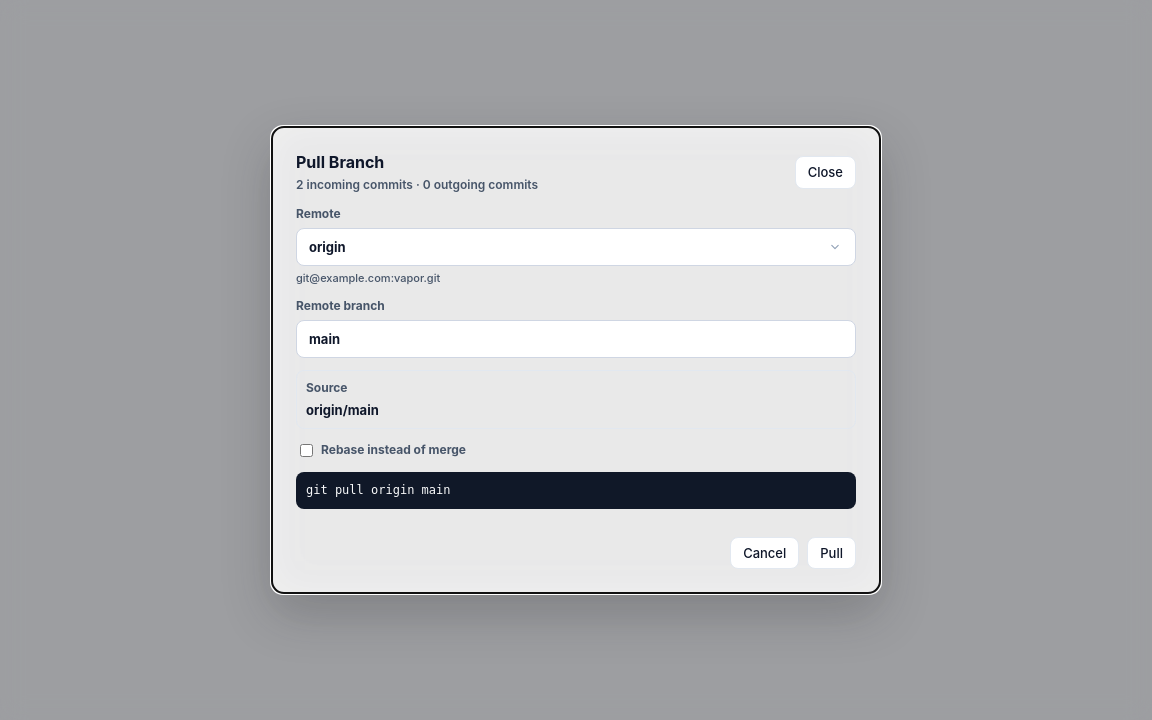
Test: PullDialog › renders an alert when pull fails
Expected: the text "git pull origin main" is shown, [296, 472, 856, 509]
Click the button "Pull": [832, 553] box [807, 537, 856, 569]
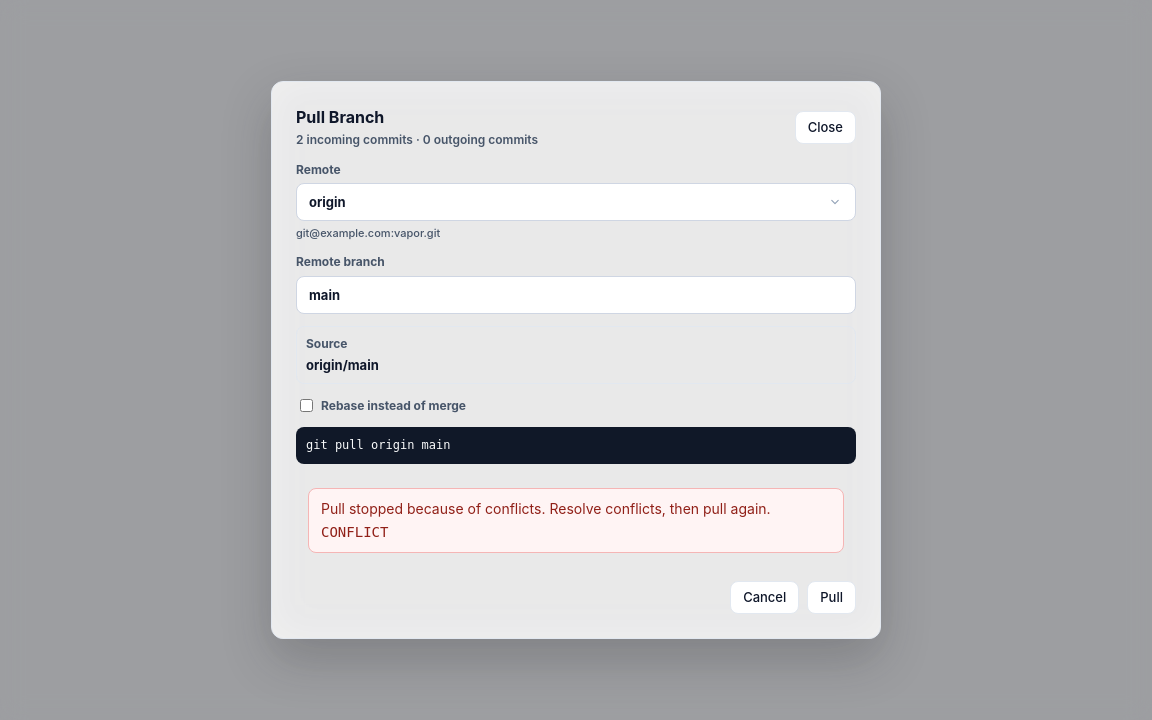
Expected: the button "Pull" is enabled, [807, 582, 856, 614]
Expected: the message shows "Pull stopped because of conflicts.", [321, 500, 546, 517]
Expected: the message shows "Resolve conflicts, then pull again.", [549, 500, 770, 517]
